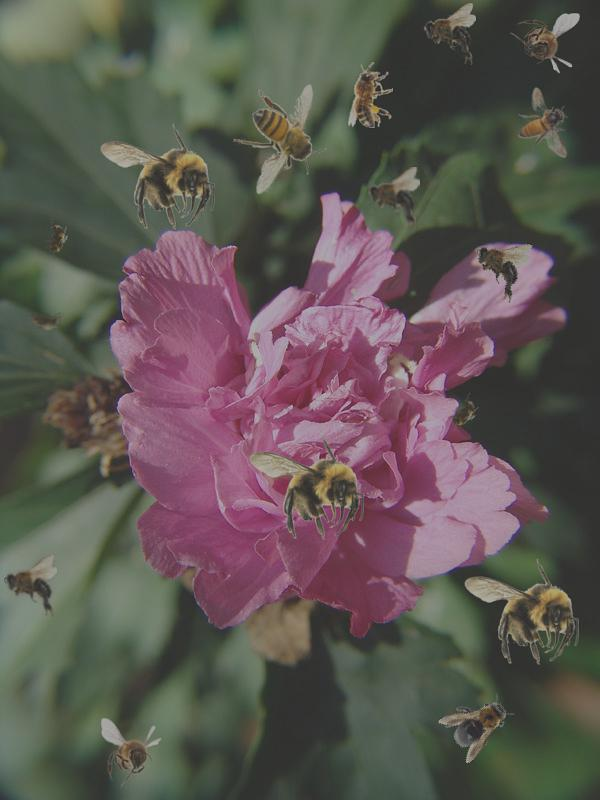Bee: (464, 558, 579, 665), (100, 123, 215, 230), (249, 433, 364, 540), (233, 84, 327, 195), (436, 681, 522, 765), (463, 227, 536, 305), (101, 718, 162, 788), (510, 13, 580, 74), (518, 87, 568, 158), (4, 555, 57, 617), (367, 167, 420, 229), (423, 3, 476, 65), (348, 62, 393, 128), (441, 392, 485, 436), (39, 217, 73, 263), (23, 305, 67, 335)
